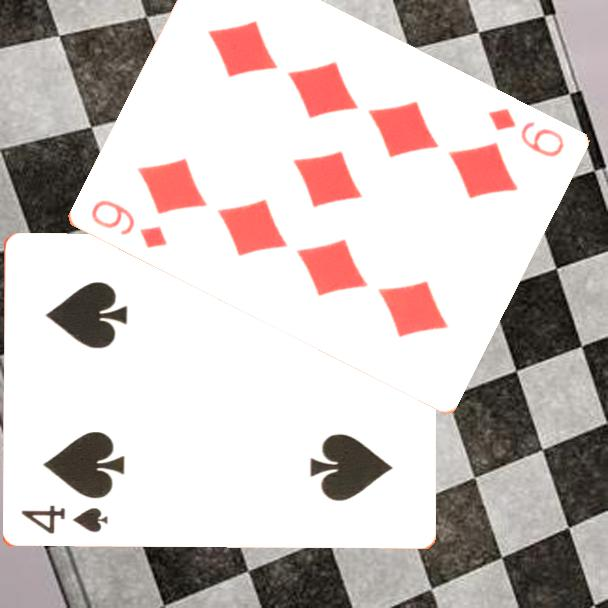d09: (483, 104, 567, 161), (86, 196, 170, 251)
s04: (17, 501, 110, 537)
